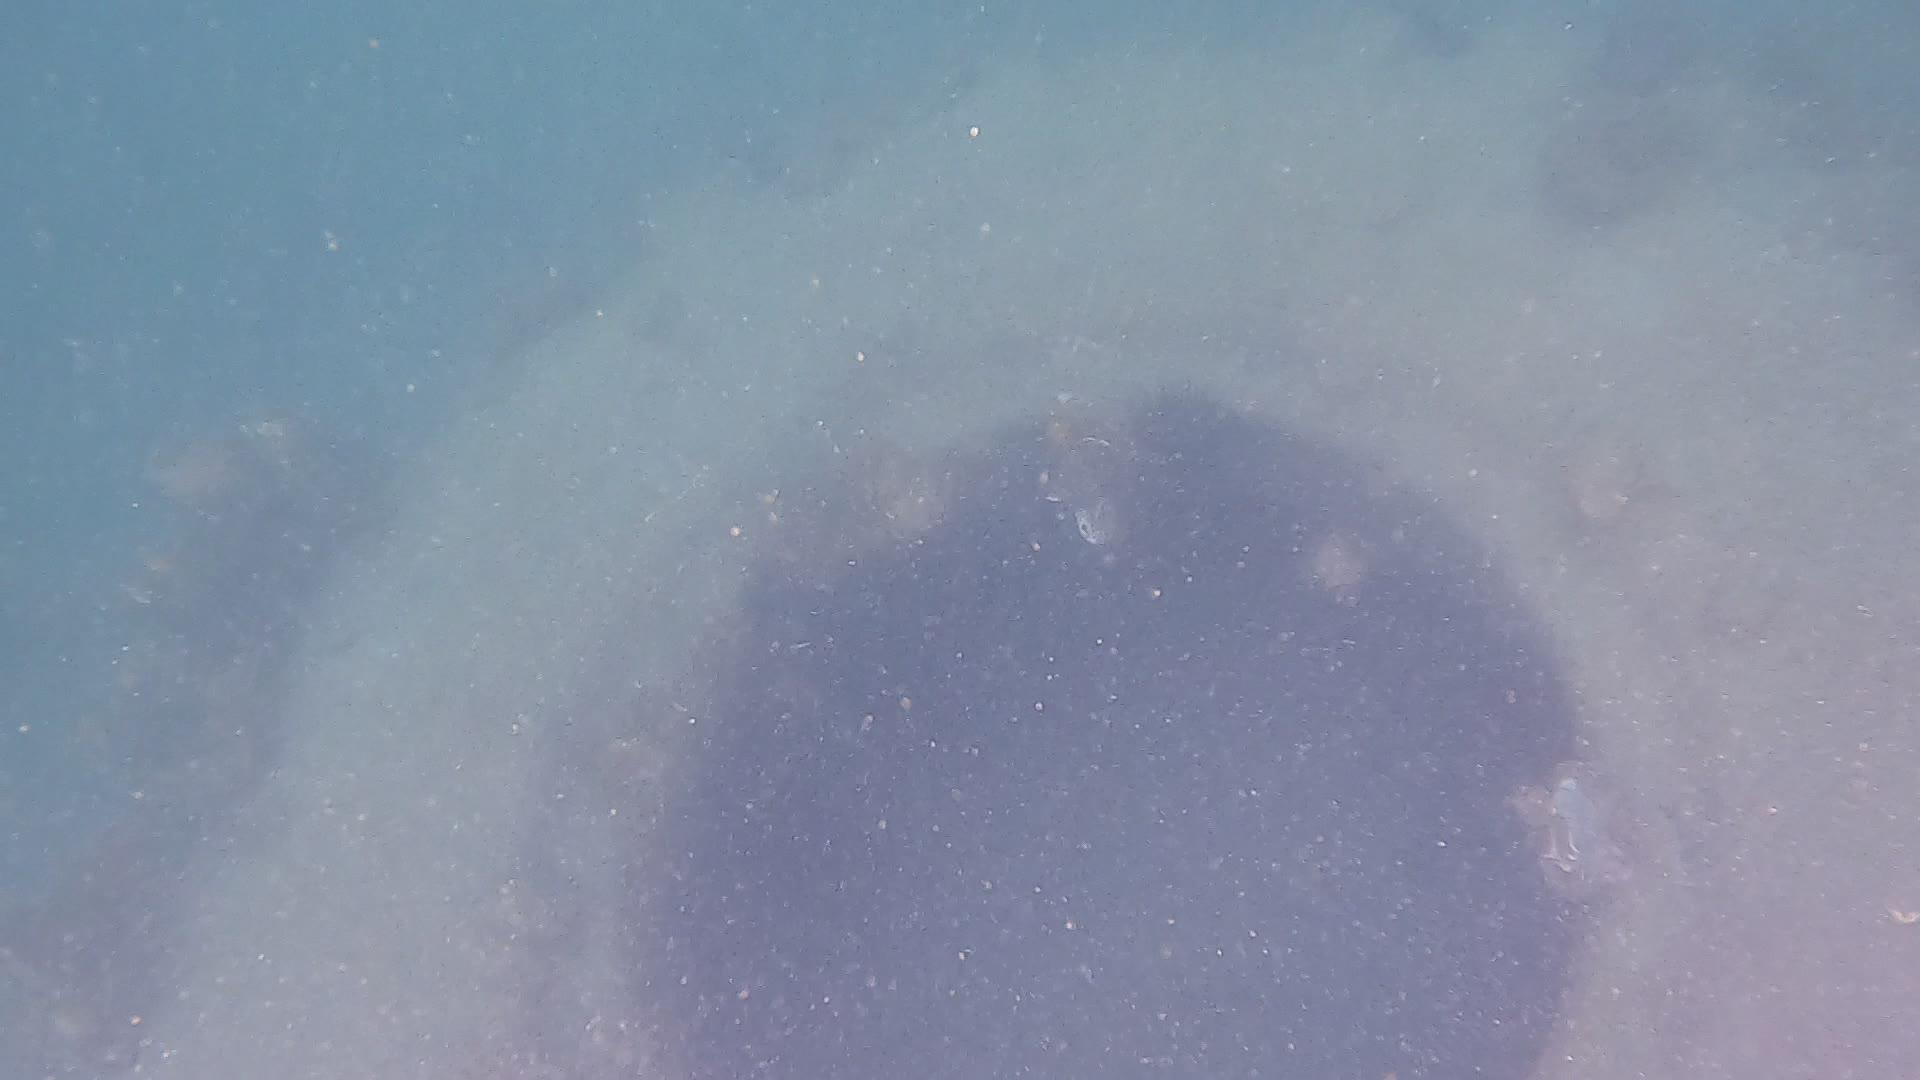tire: (133, 0, 1920, 1080)
